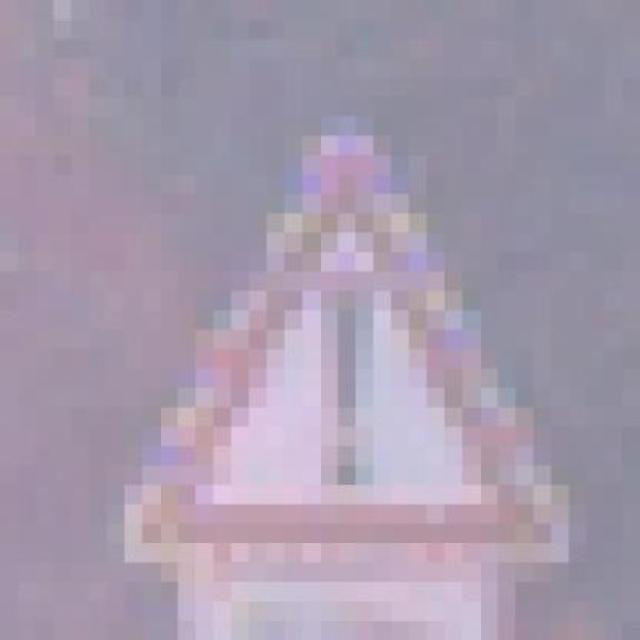Attention Please-: (89, 136, 586, 582)
